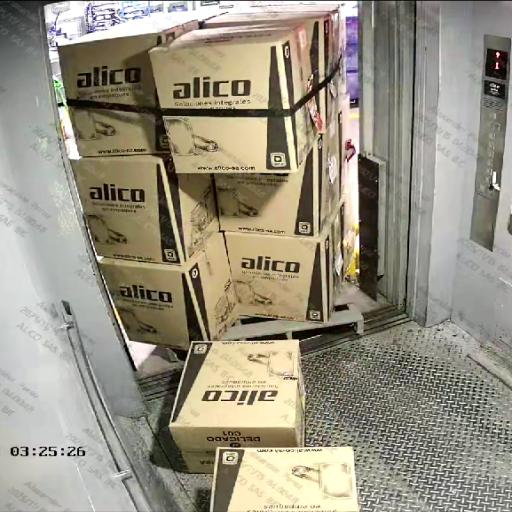Caja caida: (82, 200, 511, 512)
